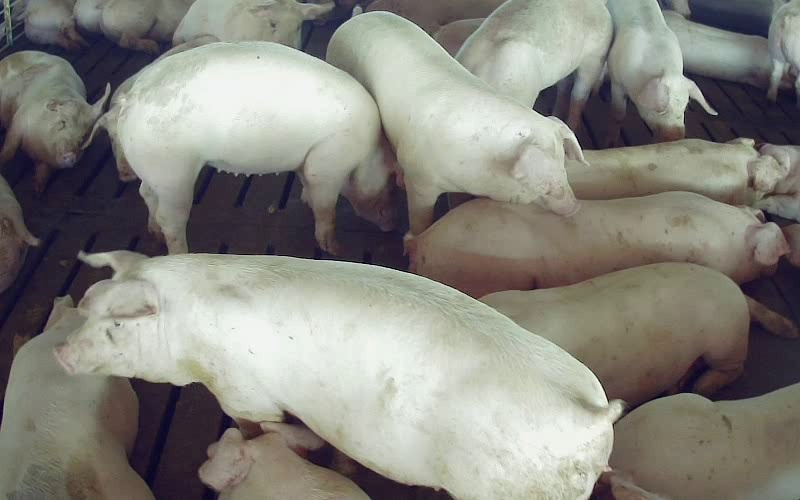pig: (56, 254, 621, 499), (118, 42, 393, 252), (326, 11, 583, 235), (409, 191, 788, 296), (480, 264, 749, 405), (0, 297, 153, 499), (608, 383, 799, 499), (456, 0, 612, 131), (607, 0, 716, 145), (0, 51, 109, 191), (566, 138, 783, 205), (663, 11, 770, 87), (173, 0, 333, 48)
